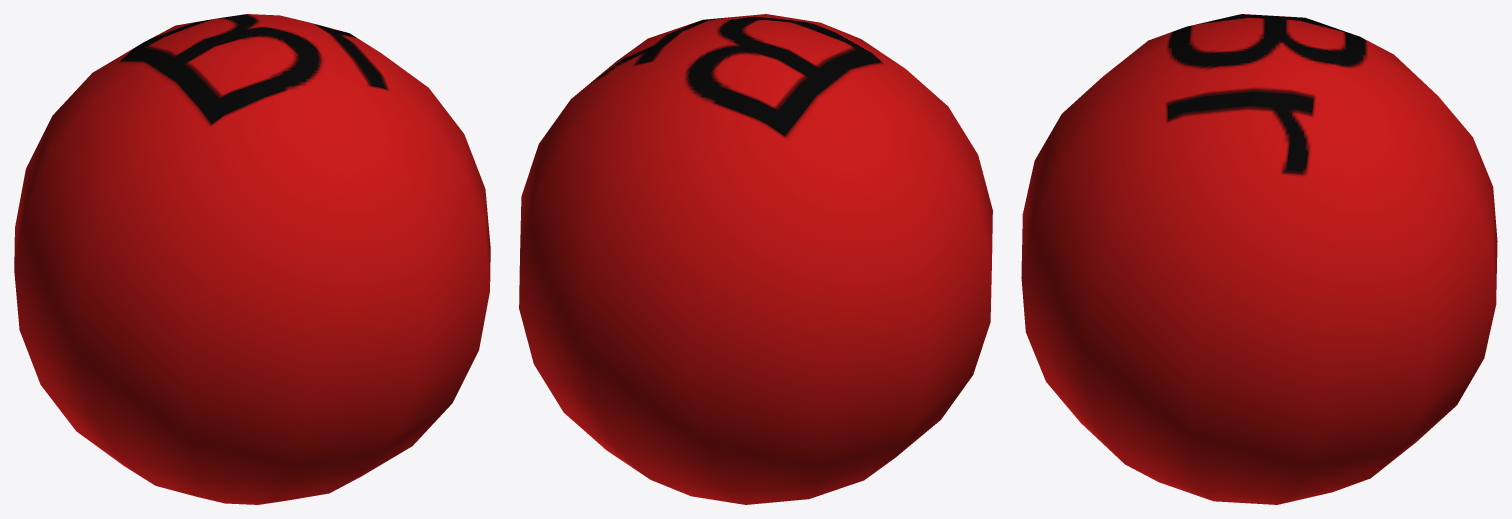
Rendered from Bromine.fbx.
3 views of the same model, side by side, from view 1: azimuth 30°, elevation 25°; view 2: azimuth 150°, elevation 25°; view 3: azimuth 270°, elevation 25° (orthographic).
Visible parts, largest first — view 1: Bromine; view 2: Bromine; view 3: Bromine.
Boxes of the visible parts, <box> form: Bromine: <box>14,14,490,504</box>; Bromine: <box>519,14,992,504</box>; Bromine: <box>1021,14,1497,504</box>.
Bounding box in the file's own units: 17.05 × 17.59 × 17.1.
1 material, 1 textured.
